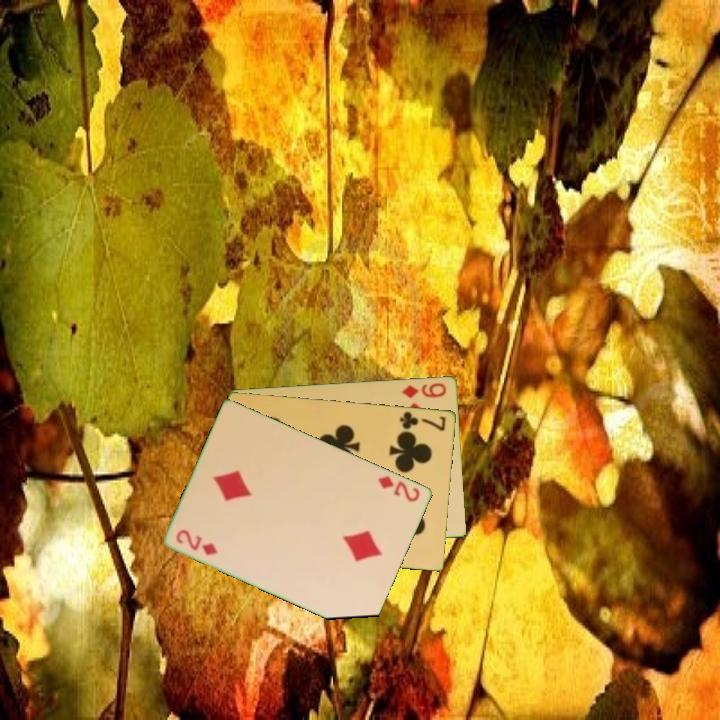2d: (375, 472, 423, 505), (173, 526, 221, 558)
7c: (397, 408, 449, 433)
9d: (398, 379, 449, 401)
